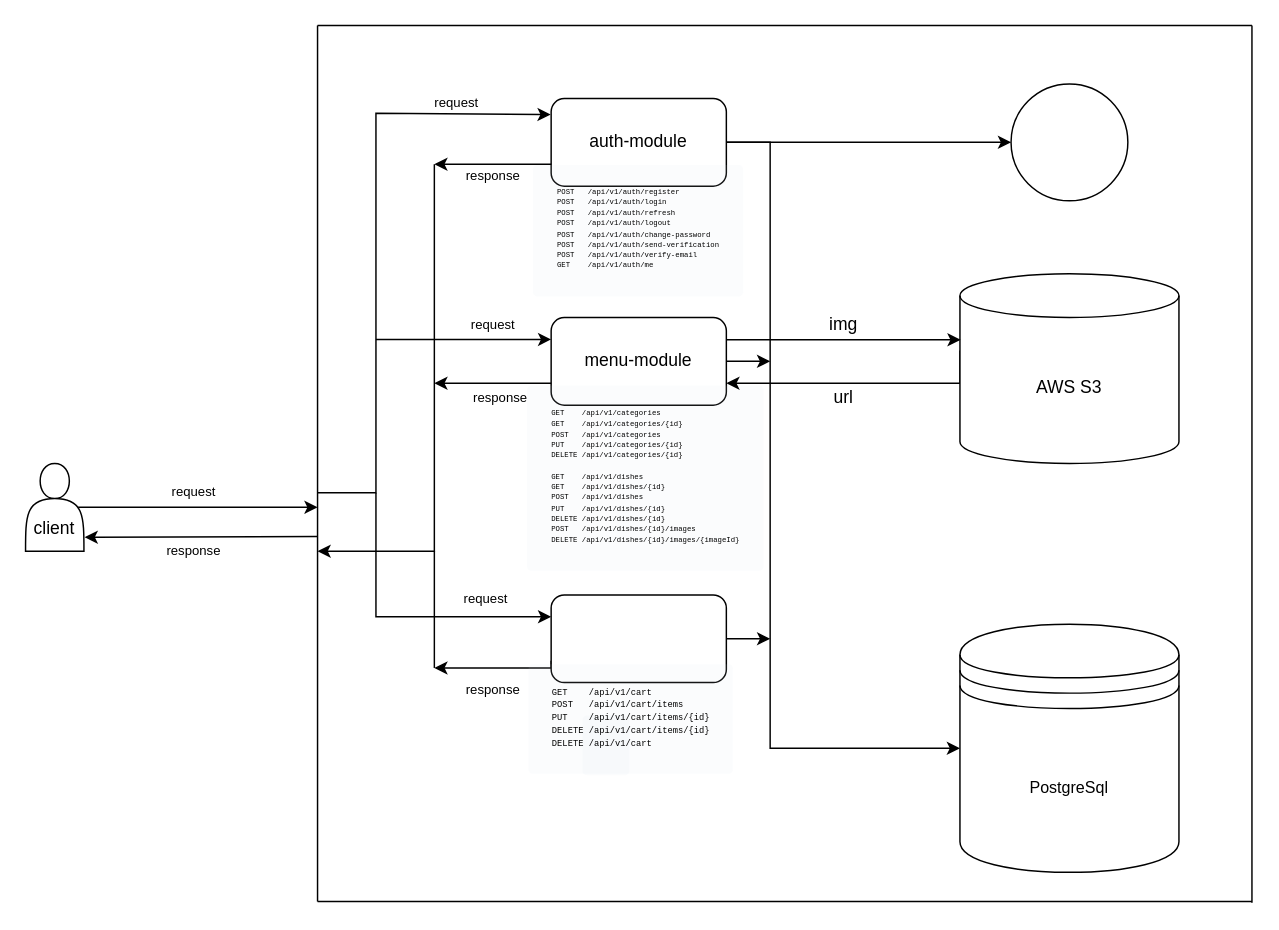
Some shapes in this 1279 by 930 pixel diagram are drawn without their labels. The shapes that lost their labels are listed below. From the top down, each one's centre as x and y in pixels, then its label:
At (x=1069, y=141): "Yandex SMTP".
At (x=638, y=638): "cart-module".
